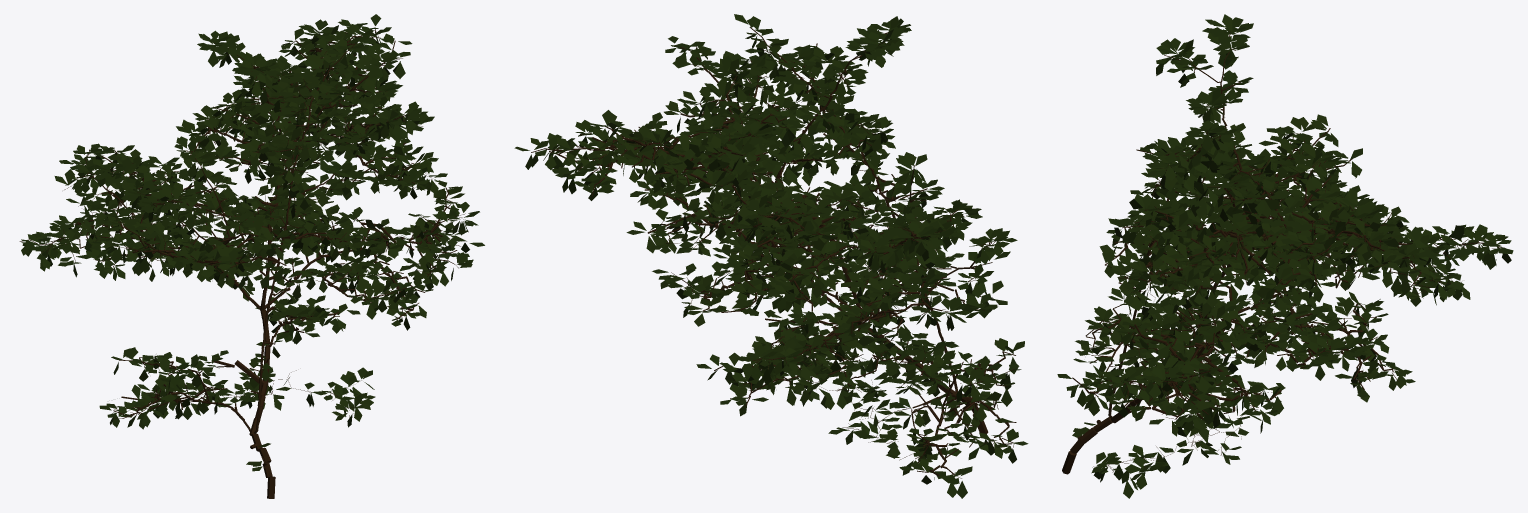
File: tree_406.obj
3 renders of one model, left to right at view 1: azimuth 30°, elevation 25°; view 2: azimuth 150°, elevation 25°; view 3: azimuth 270°, elevation 25°, orthographic. The views are drawn at different scales.
Parts seen in each view (by area): view 1: Leaves, TrunkAndBranches; view 2: Leaves, TrunkAndBranches; view 3: Leaves, TrunkAndBranches.
Boxes of the visible parts, left/top/right/bottom form: Leaves: left=21, top=14, right=484, bottom=471; TrunkAndBranches: left=19, top=29, right=466, bottom=498; Leaves: left=514, top=14, right=1028, bottom=498; TrunkAndBranches: left=531, top=27, right=1016, bottom=478; Leaves: left=1057, top=14, right=1513, bottom=498; TrunkAndBranches: left=1062, top=30, right=1505, bottom=477.
Bounding box in the file's own units: 7.22 × 7.53 × 6.7.
